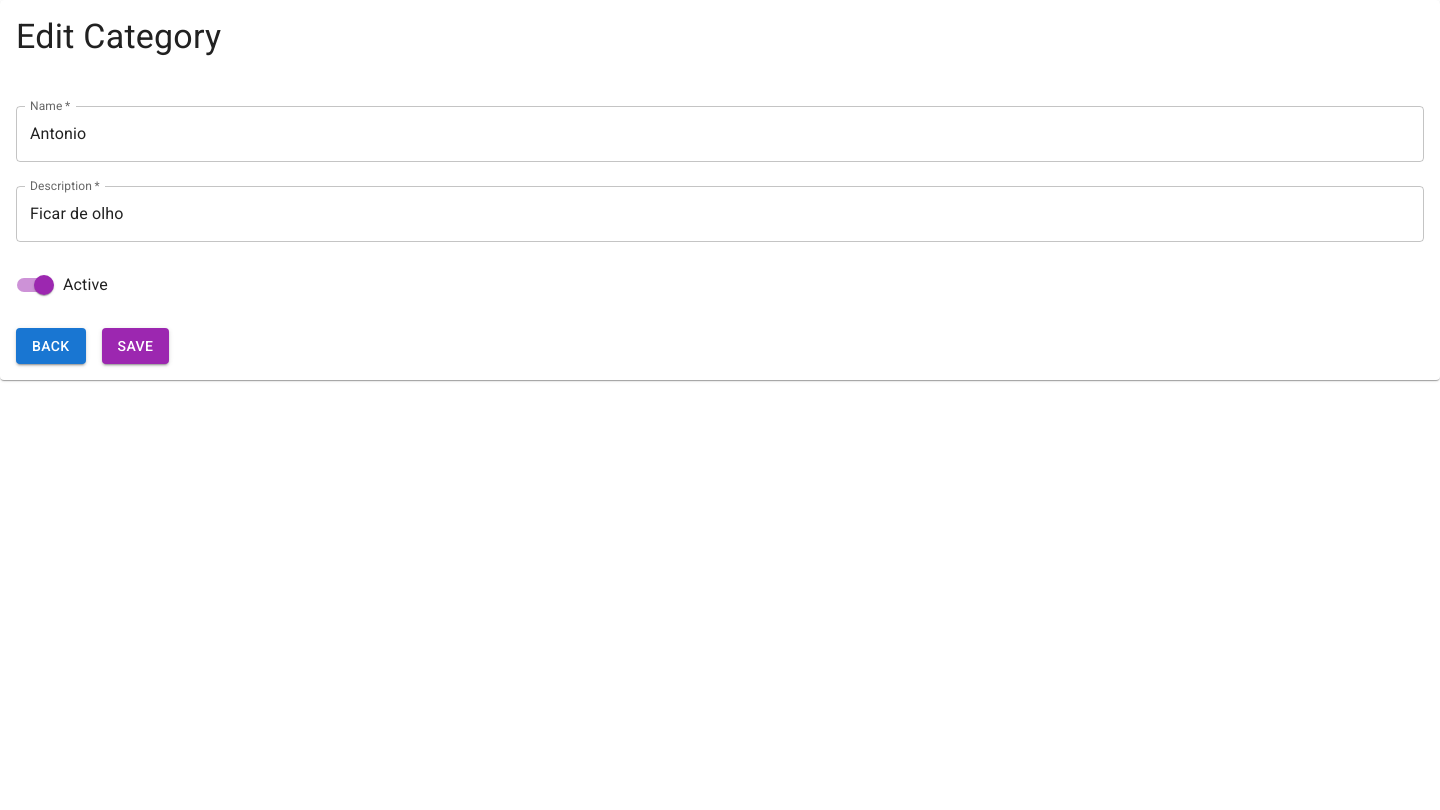
Edit category › should handle submit error
Replace the text in the field with test id "textFieldName" with "Category 2" at point(720, 134), box [16,106,1424,162]
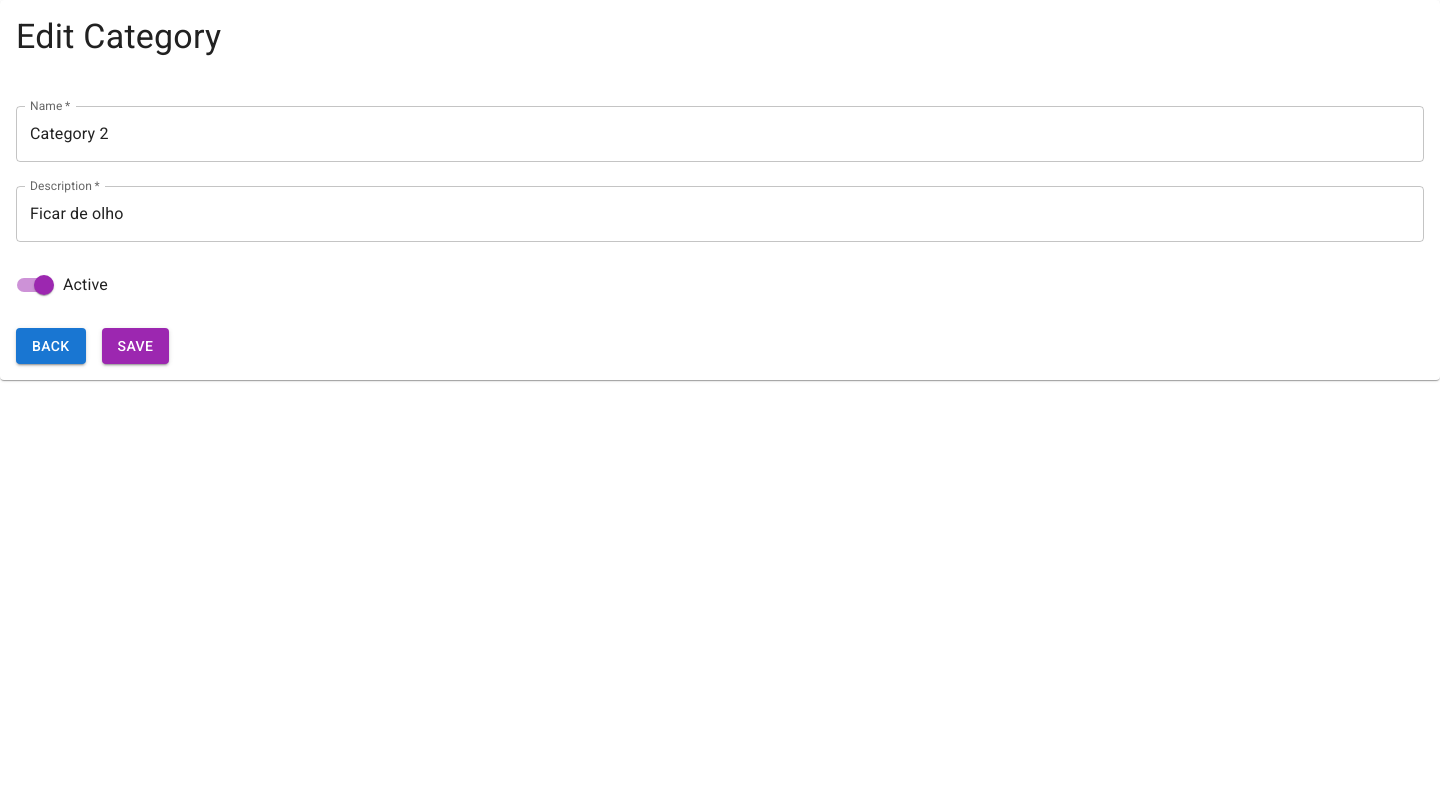
Replace the text in the field with test id "textFieldDescription" with "Description 2" at point(720, 214), box [16,186,1424,242]
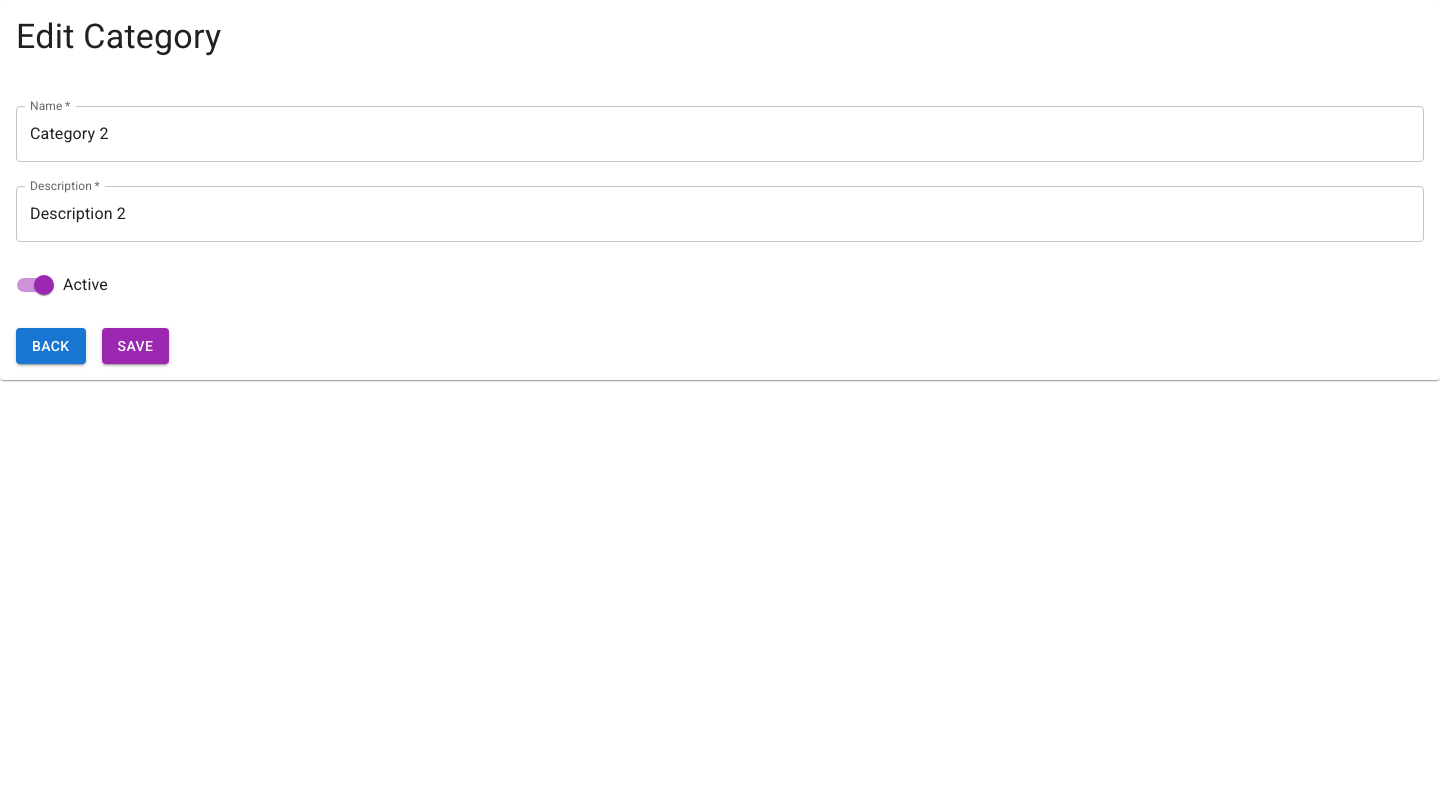
Click the element with test id "is_active" at point(44, 285), box [34,275,54,295]
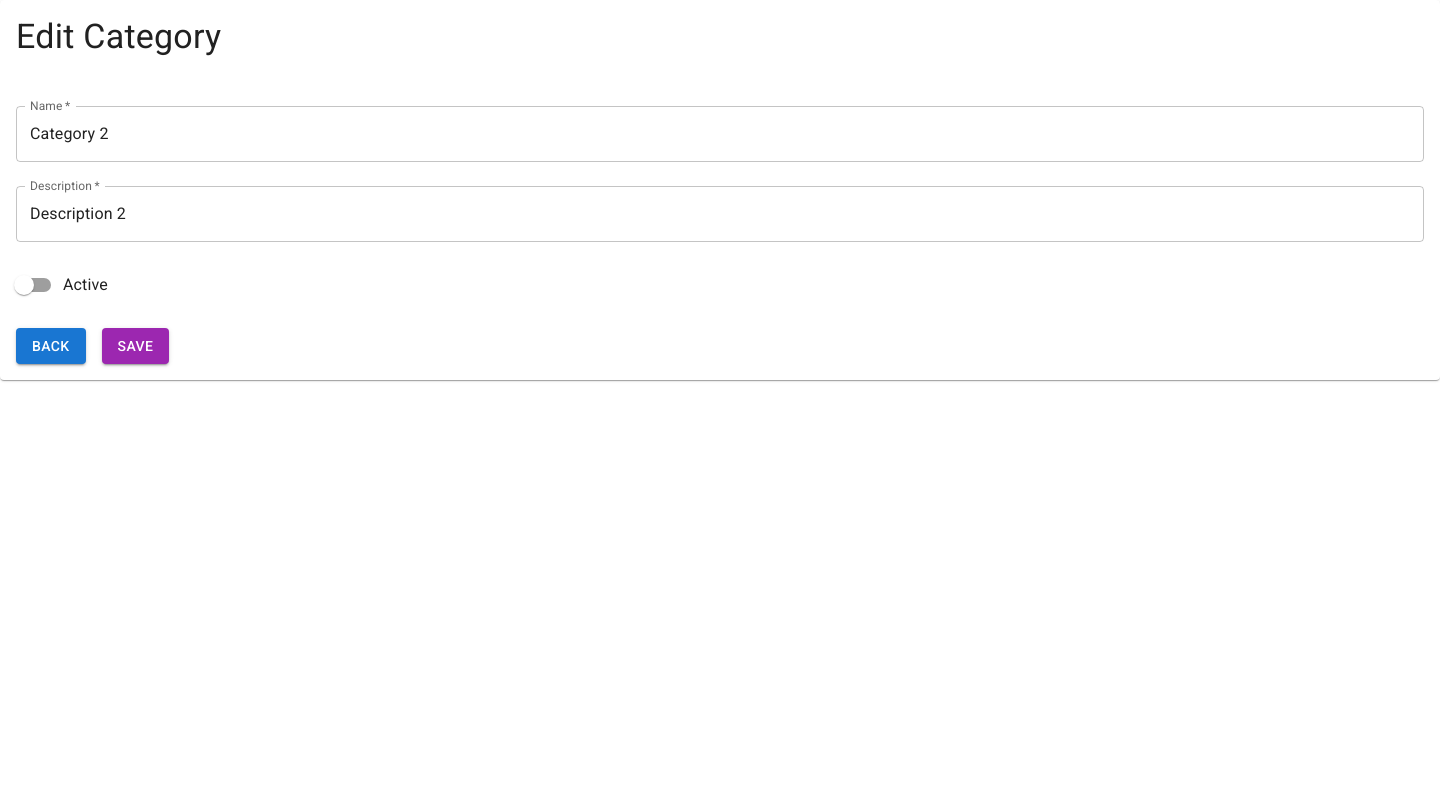
Click the button "Save" at point(136, 346), box [102,328,169,364]
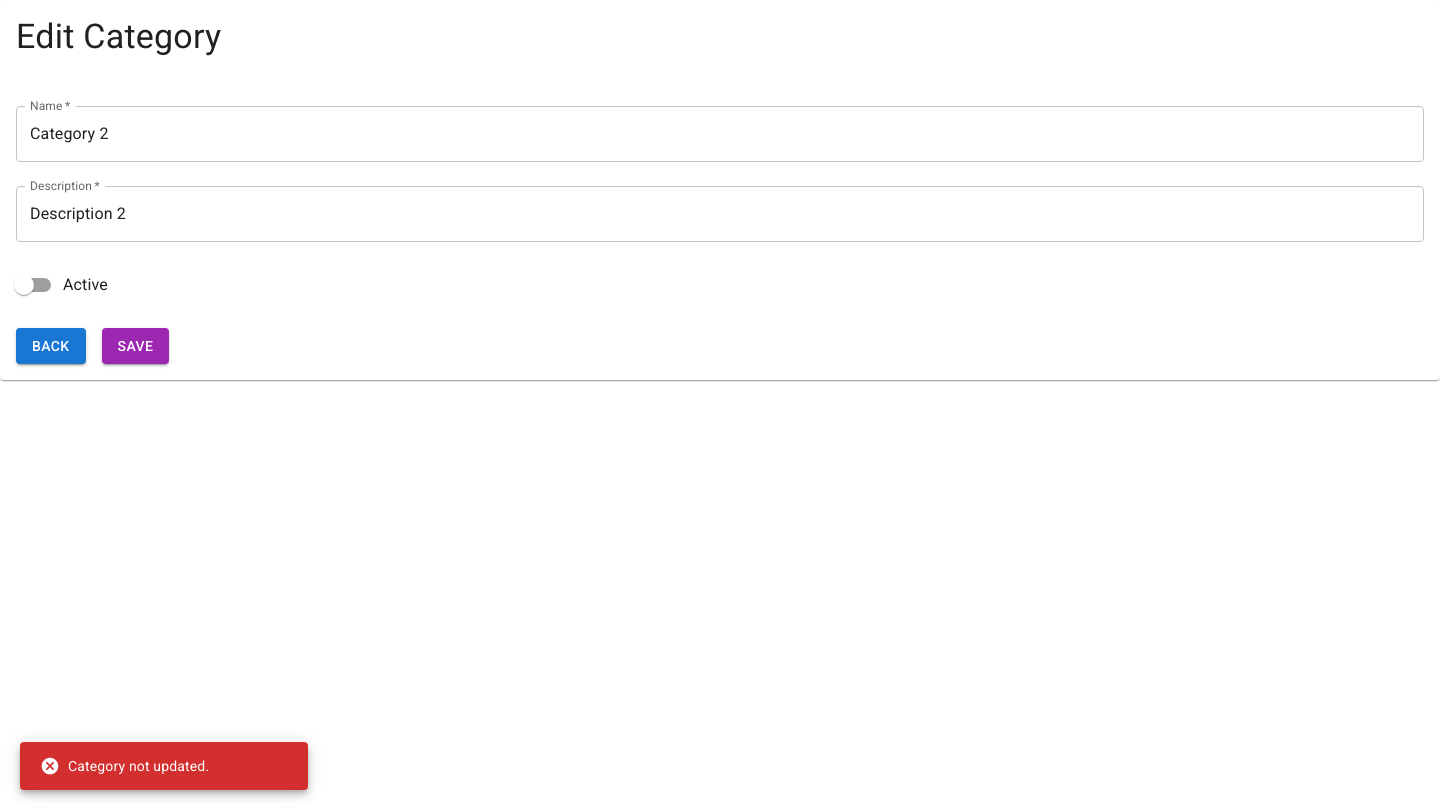
expect the text "Category not updated." is shown: met, box [40,756,209,776]
